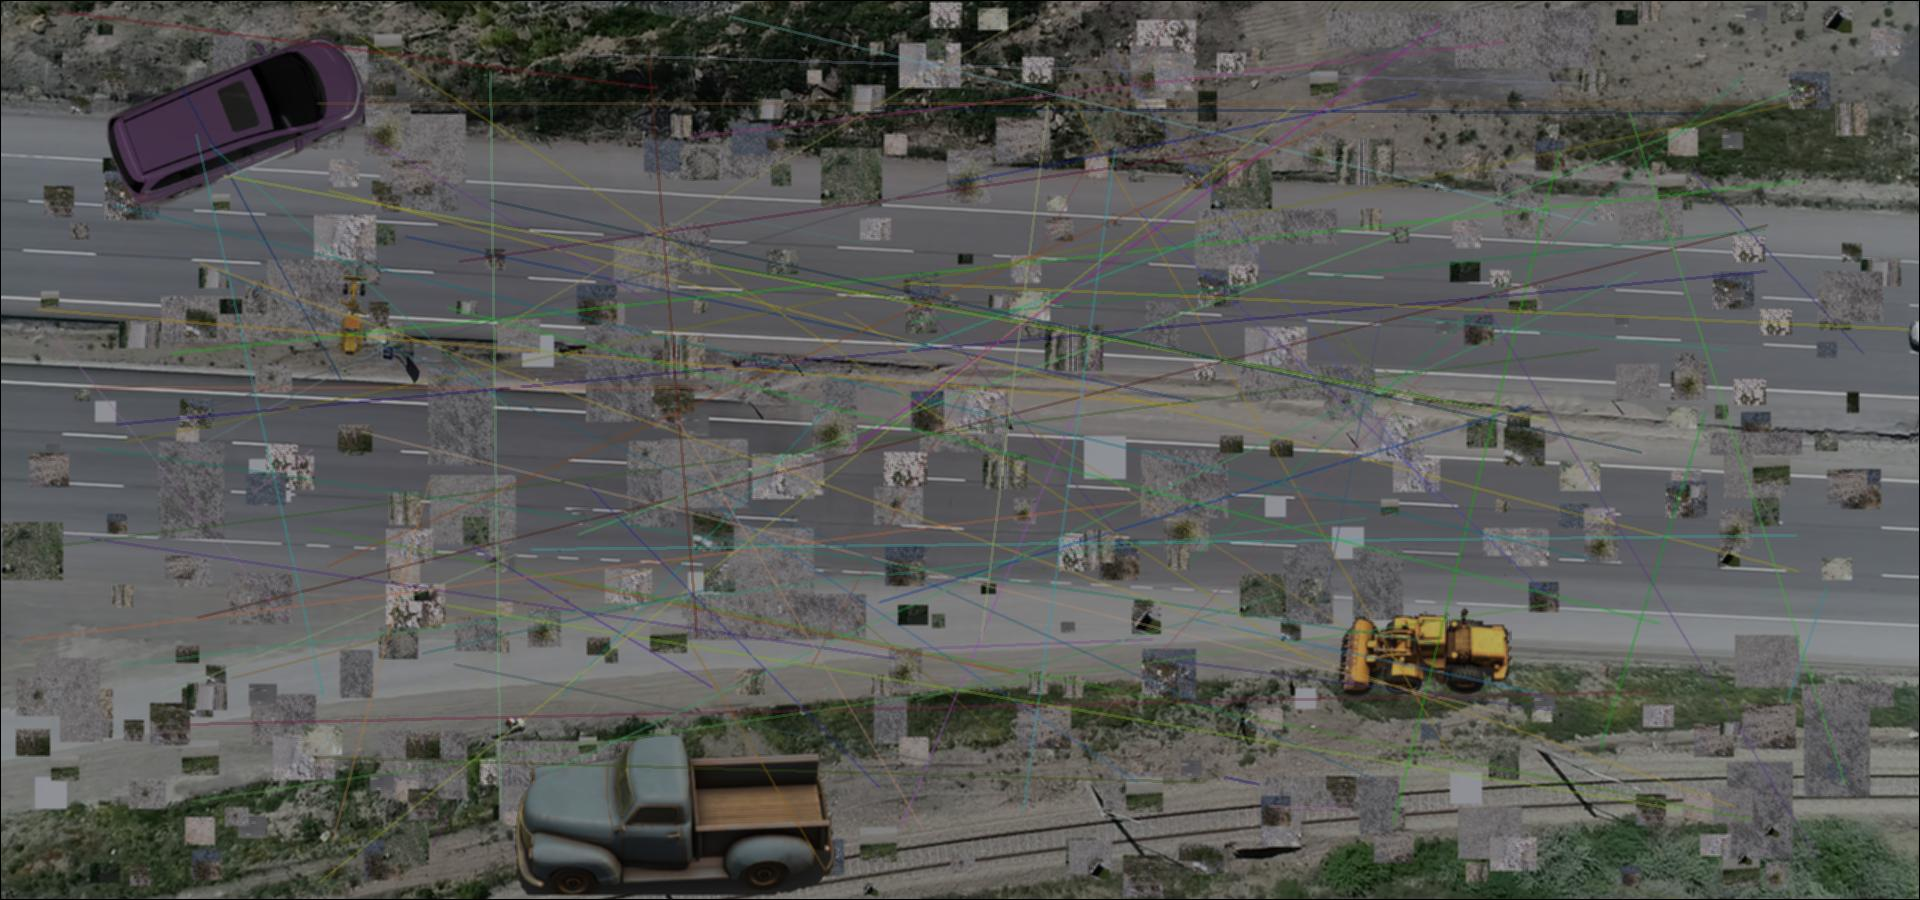arac: (514, 735, 834, 895), (102, 24, 366, 209), (1333, 609, 1517, 707), (337, 274, 369, 356), (484, 714, 527, 741)
